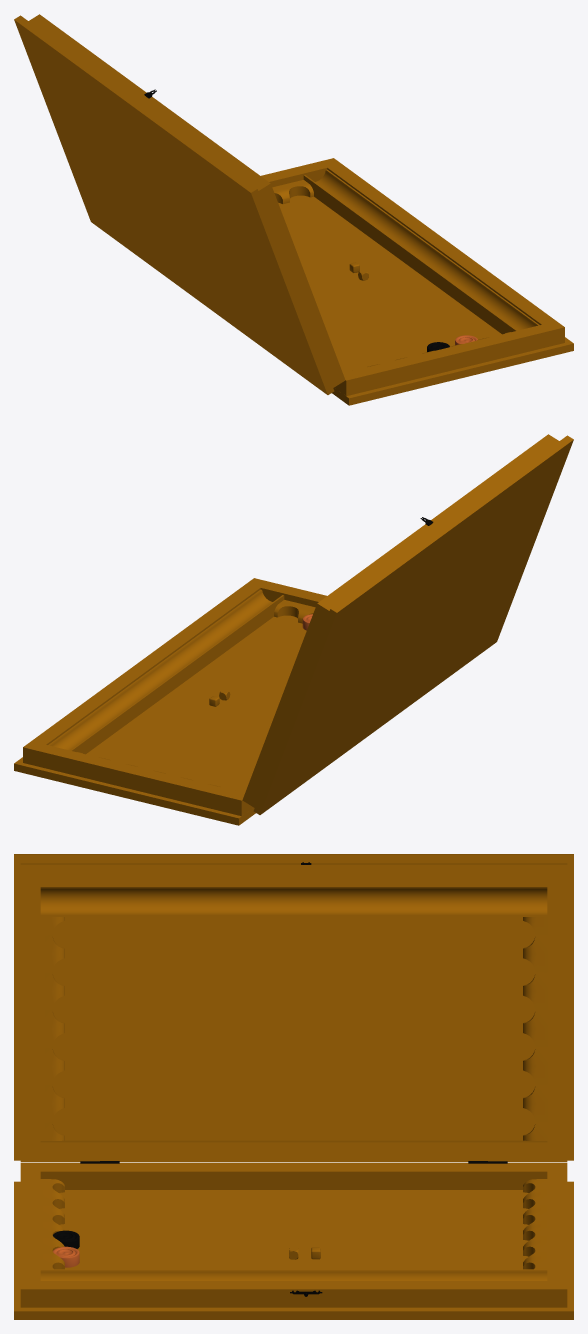
The model's file is backgammon.FBX.
3 views of the same model, one above another, from view 1: azimuth 30°, elevation 25°; view 2: azimuth 150°, elevation 25°; view 3: azimuth 270°, elevation 25° (orthographic). The views are drawn at different scales.
Visible parts, largest first — view 1: backgammon_cap, backgammon_base; view 2: backgammon_cap, backgammon_base; view 3: backgammon_cap, backgammon_base.
Boxes of the visible parts, <box> form: backgammon_cap: <box>14,14,345,394</box>; backgammon_base: <box>261,158,573,405</box>; backgammon_cap: <box>242,434,573,814</box>; backgammon_base: <box>14,578,326,825</box>; backgammon_cap: <box>14,854,573,1163</box>; backgammon_base: <box>14,1161,573,1319</box>.
Bounding box in the file's own units: 32.27 × 23.12 × 41.
